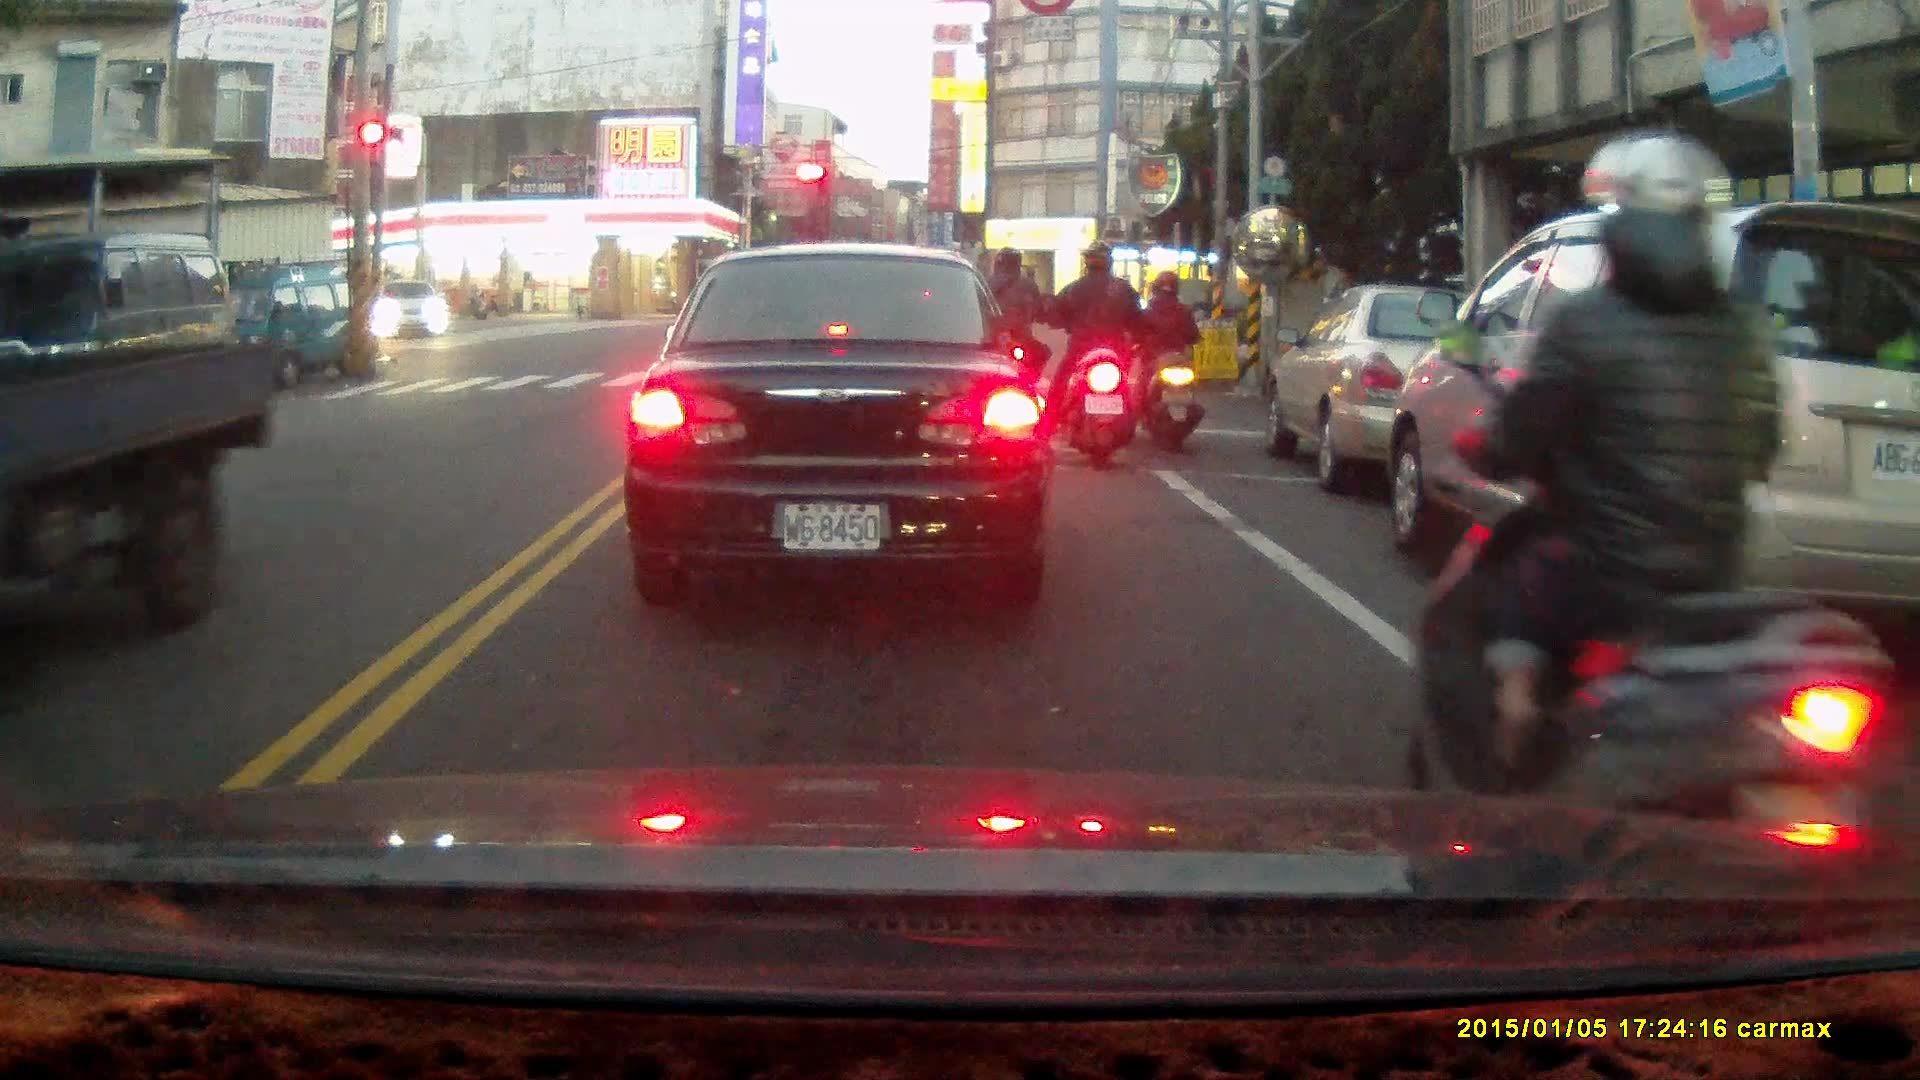rider: (1399, 130, 1889, 977), (1046, 242, 1142, 468), (964, 252, 1048, 432), (1135, 270, 1205, 451)
vehicle: (1379, 199, 1920, 684), (636, 248, 1045, 599), (1, 308, 284, 647), (1261, 287, 1586, 493), (195, 263, 384, 394), (372, 277, 451, 343)
